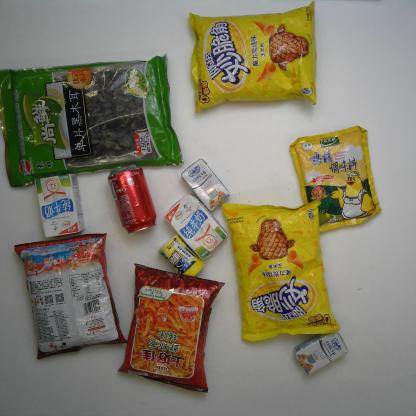Dried Food: (0, 52, 185, 189)
Drink: (107, 163, 158, 235)
Gum: (158, 232, 206, 276)
Milk: (164, 193, 228, 260), (35, 174, 86, 238), (180, 158, 231, 211), (293, 330, 348, 376)
Puffed Food: (222, 198, 342, 344), (188, 0, 319, 114), (12, 232, 127, 361), (115, 261, 226, 394)
Seasoner: (289, 125, 383, 233)
